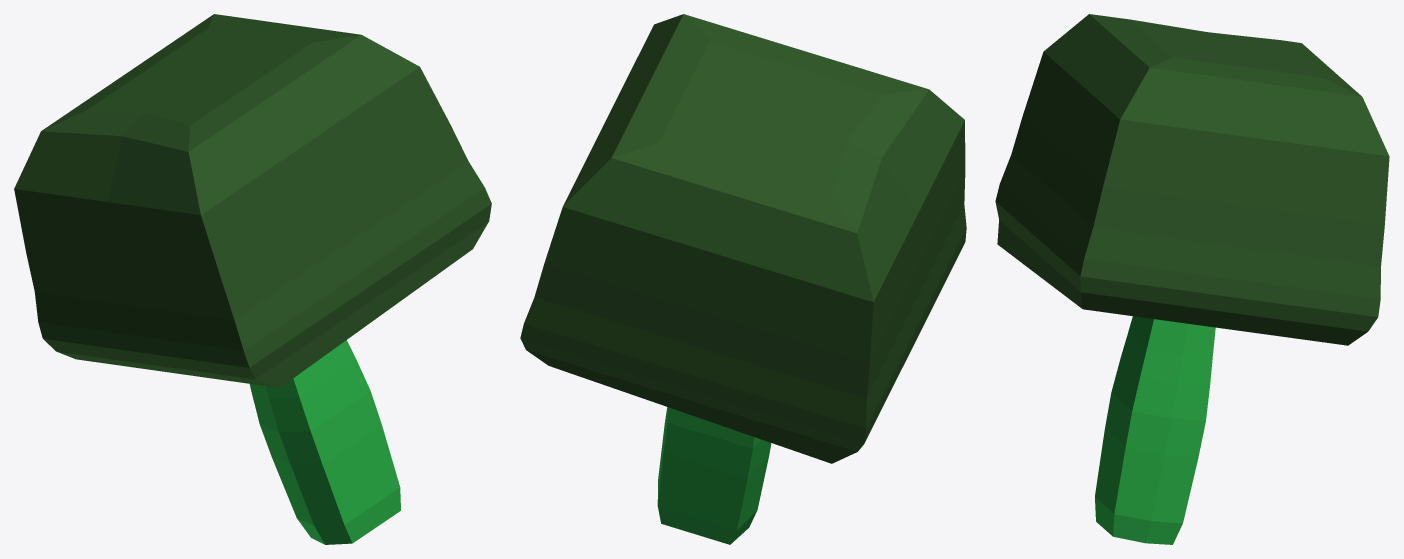
The model's file is broccoli.fbx.
3 views of the same model, side by side, from view 1: azimuth 30°, elevation 25°; view 2: azimuth 150°, elevation 25°; view 3: azimuth 270°, elevation 25° (orthographic). The views are drawn at different scales.
Parts seen in each view (by area): view 1: Brocolli; view 2: Brocolli; view 3: Brocolli.
Boxes of the visible parts, x1=… form: Brocolli: x1=14, y1=14, x2=491, y2=544; Brocolli: x1=520, y1=14, x2=966, y2=544; Brocolli: x1=995, y1=14, x2=1389, y2=544.
Size of the model in its own units: 1.05 by 1.38 by 1.01.
